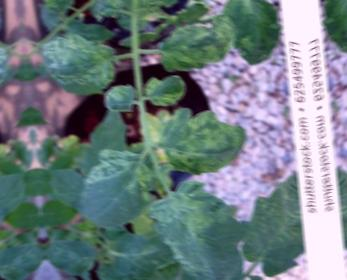Tomato leaf mosaic virus: (148, 177, 253, 280), (71, 145, 161, 234), (154, 101, 250, 182), (35, 30, 130, 106), (156, 11, 238, 74), (218, 0, 282, 69), (143, 74, 193, 111), (103, 85, 141, 118)
